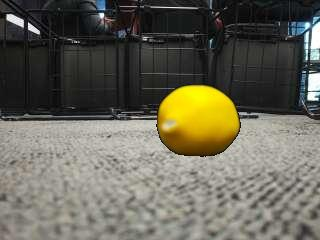lemon: (157, 85, 239, 155)
